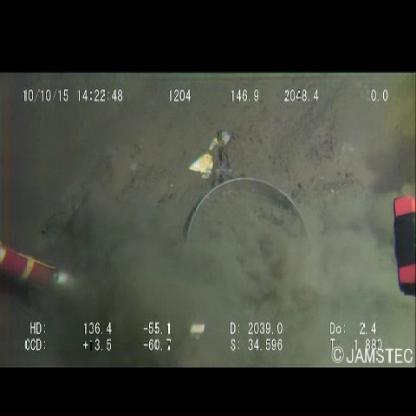Rác: (184, 127, 236, 177)
